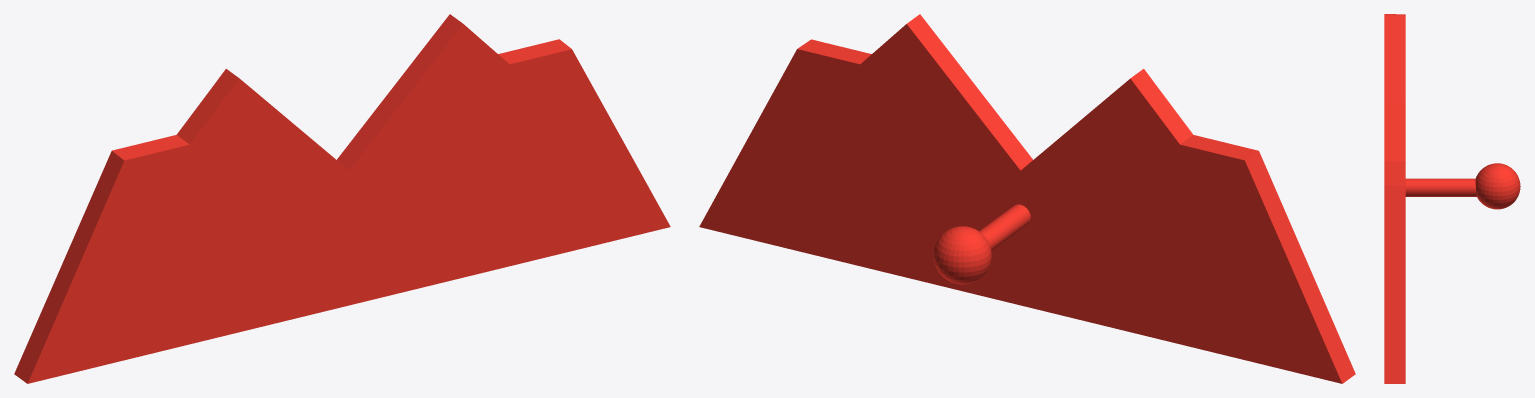
The model's file is BasePiece.fbx.
3 renders of one model, left to right at view 1: azimuth 30°, elevation 25°; view 2: azimuth 150°, elevation 25°; view 3: azimuth 270°, elevation 25°, orthographic. The views are drawn at different scales.
Visible parts, largest first — view 1: BaseHanoi; view 2: BaseHanoi, BallBase, BaseCylinder; view 3: BaseHanoi, BallBase, BaseCylinder.
Part boxes in pixels (x1,y1,x2,y2): BaseHanoi: (14,14,670,383); BaseHanoi: (699,14,1355,383); BallBase: (933,226,991,284); BaseCylinder: (979,204,1030,250); BaseHanoi: (1384,14,1405,383); BallBase: (1475,163,1520,209); BaseCylinder: (1405,178,1476,196).
Bounding box in the file's own units: 100 × 37.71 × 23.1.
1 material, 1 textured.
